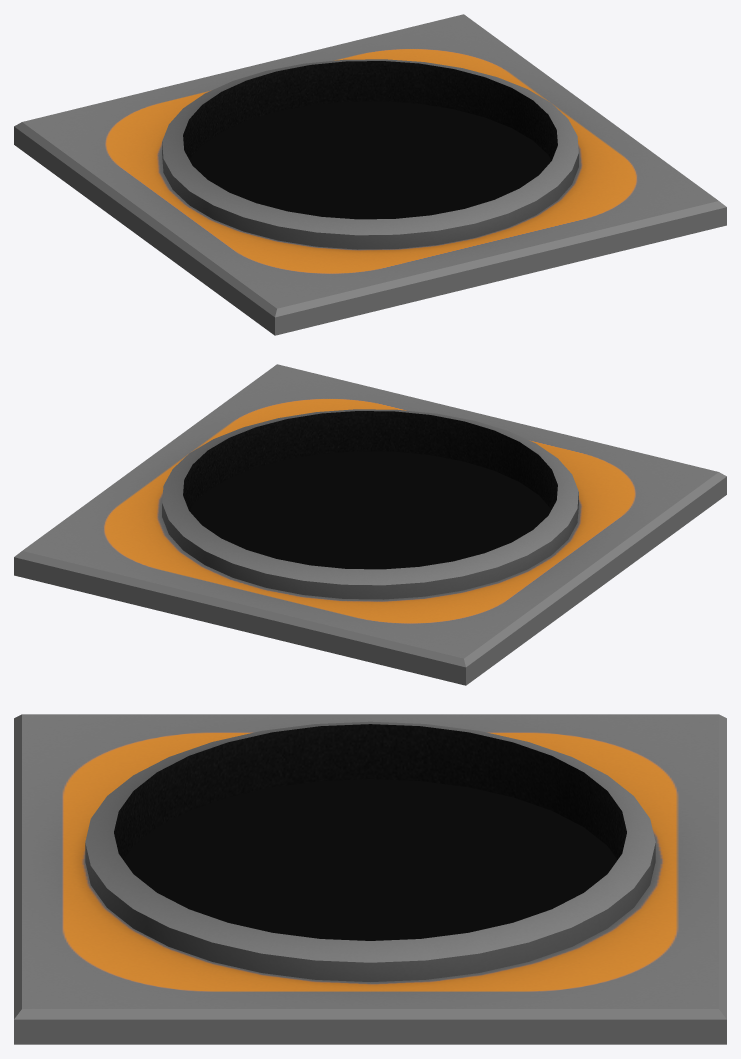
Rendered from weightedbutton_base.gltf.
3 renders of one model, top to bottom at view 1: azimuth 30°, elevation 25°; view 2: azimuth 150°, elevation 25°; view 3: azimuth 270°, elevation 25°, orthographic. The views are drawn at different scales.
Visible parts, largest first — view 1: weightedbutton_base; view 2: weightedbutton_base; view 3: weightedbutton_base.
Part boxes in pixels (x1,y1,x2,y2): weightedbutton_base: [14, 14, 726, 335]; weightedbutton_base: [14, 364, 726, 685]; weightedbutton_base: [14, 714, 726, 1044].
Bounding box in the file's own units: 2.24 × 0.2128 × 2.24.
1 material, 1 textured.
